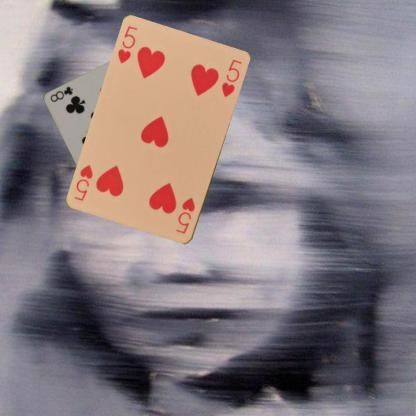5h: (115, 24, 139, 65), (173, 195, 196, 236)
